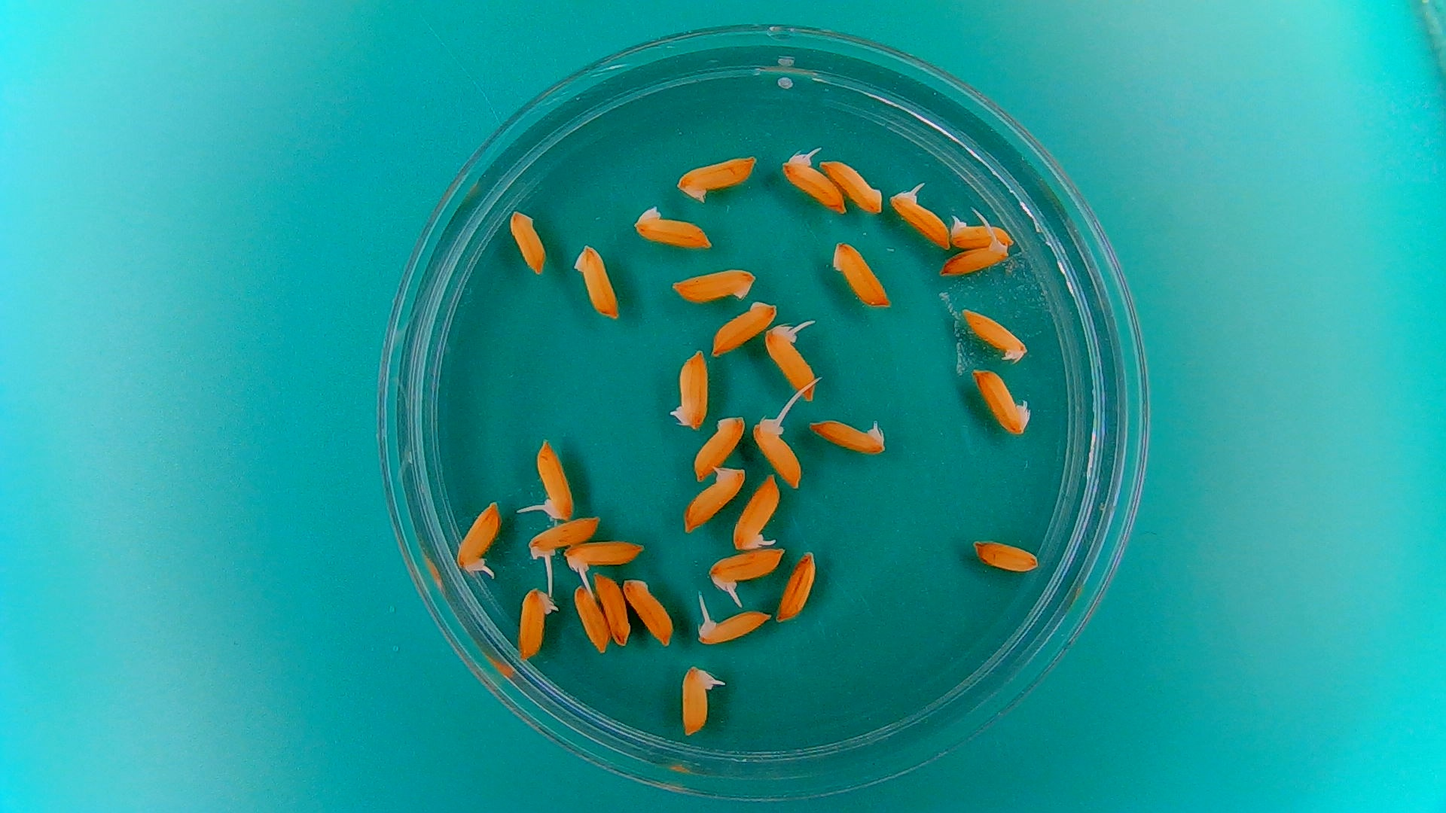no: (707, 297, 781, 359), (570, 240, 622, 325), (691, 410, 748, 483), (629, 203, 715, 251), (668, 263, 759, 308), (817, 159, 883, 216), (834, 244, 891, 309), (667, 346, 710, 431), (621, 577, 673, 647), (974, 368, 1029, 431), (776, 547, 819, 625), (568, 578, 612, 654), (677, 156, 751, 200), (505, 206, 549, 278), (592, 572, 633, 649), (969, 535, 1042, 575)
yes: (729, 470, 781, 553), (683, 470, 749, 534), (762, 330, 816, 403), (779, 157, 844, 216), (514, 583, 561, 662), (453, 502, 504, 574), (749, 422, 802, 490), (891, 188, 948, 247), (710, 545, 787, 588), (532, 440, 571, 524), (526, 516, 599, 559), (962, 312, 1026, 360), (696, 607, 770, 647), (677, 668, 716, 739), (939, 238, 1008, 278), (563, 538, 646, 571), (947, 212, 1013, 249), (811, 419, 883, 451)
